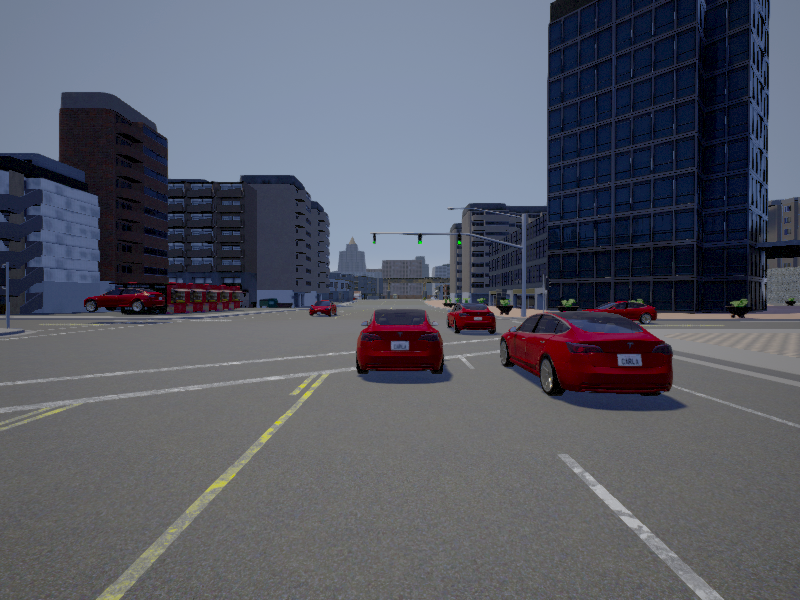Attacker: (86, 285, 167, 311)
Benign: (500, 313, 673, 395), (356, 308, 443, 375), (586, 299, 657, 325), (448, 303, 496, 335), (309, 300, 337, 318)
